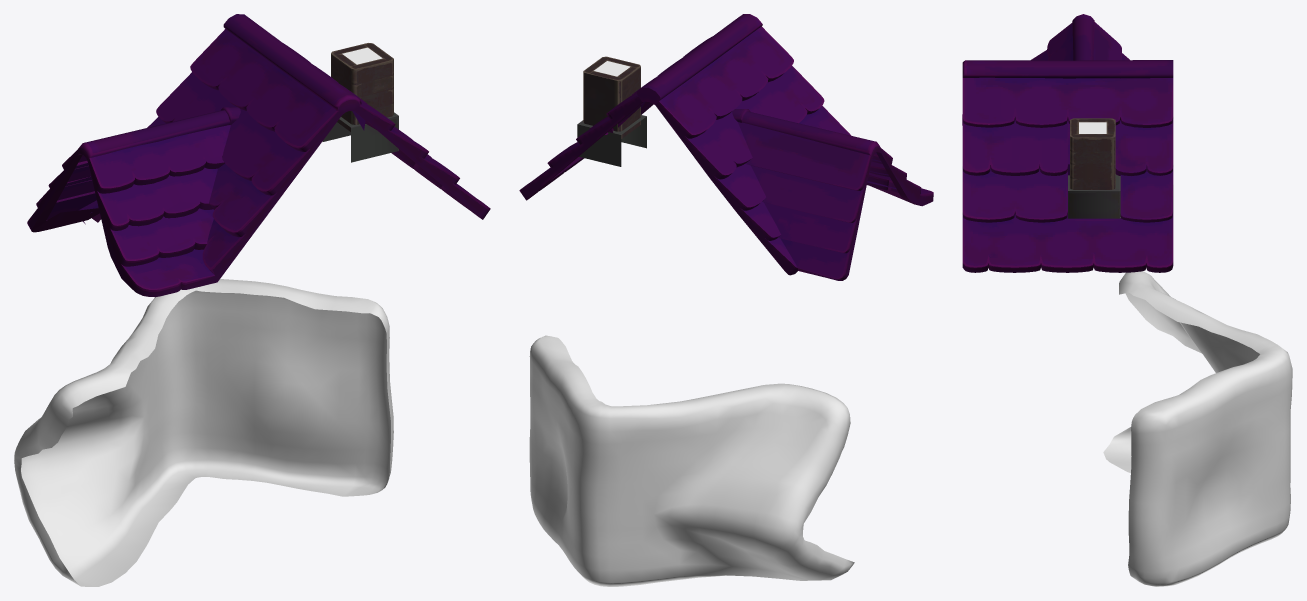
The model's file is standard_roof_2.glb.
The picture shows the model from 3 angles, left to right: view 1: azimuth 30°, elevation 25°; view 2: azimuth 150°, elevation 25°; view 3: azimuth 270°, elevation 25°; orthographic projection. The views are drawn at different scales.
Visible parts, largest first — view 1: Snow__mWinterSnow, Base_low__mRoofA; view 2: Snow__mWinterSnow, Base_low__mRoofA; view 3: Base_low__mRoofA, Snow__mWinterSnow.
Part boxes in pixels (x1=…): Snow__mWinterSnow: x1=14, y1=279, x2=393, y2=586; Base_low__mRoofA: x1=27, y1=14, x2=490, y2=297; Snow__mWinterSnow: x1=529, y1=335, x2=854, y2=586; Base_low__mRoofA: x1=519, y1=14, x2=933, y2=280; Base_low__mRoofA: x1=962, y1=14, x2=1173, y2=272; Snow__mWinterSnow: x1=1103, y1=271, x2=1292, y2=586.
Size of the model in its own units: 41.99 by 57.13 by 35.95.
3 materials, 1 textured.
